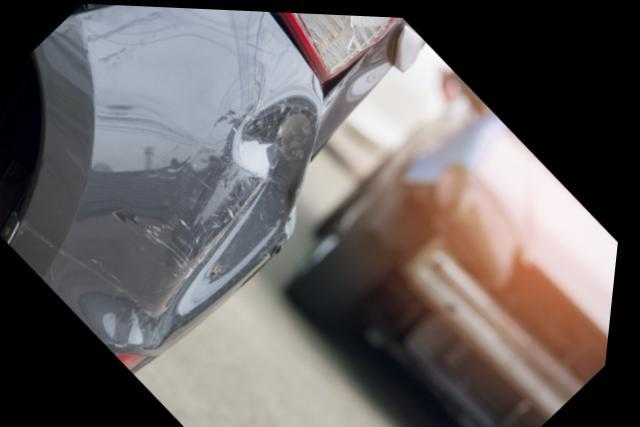dent: (181, 91, 321, 312)
lamp broken: (280, 10, 397, 77)
scratch: (111, 145, 264, 274)
